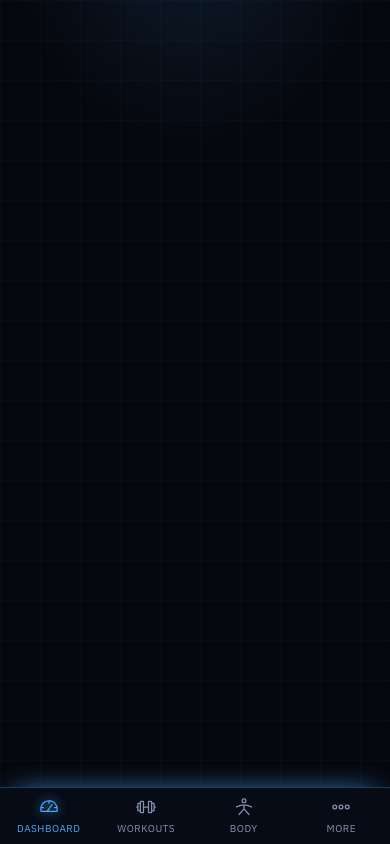
the phone bar › opens a sheet with every other open page, in the order of the desktop rail, and Sign out
Click the button "More" at (341, 816), box [292,788,389,843]
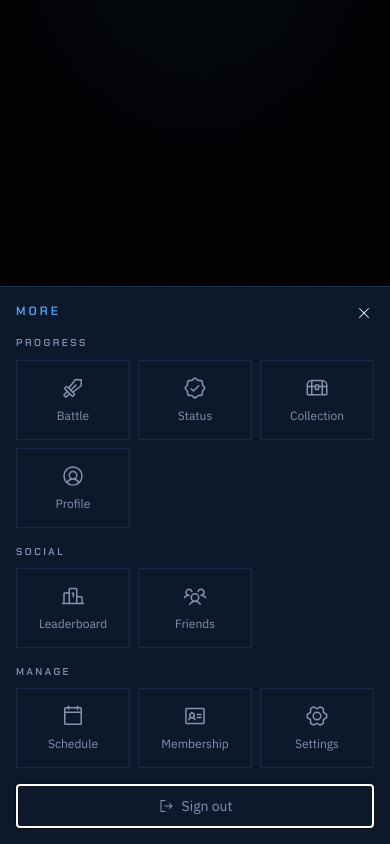
expect the button "Sign out" is shown: met, box [16,784,374,828]
